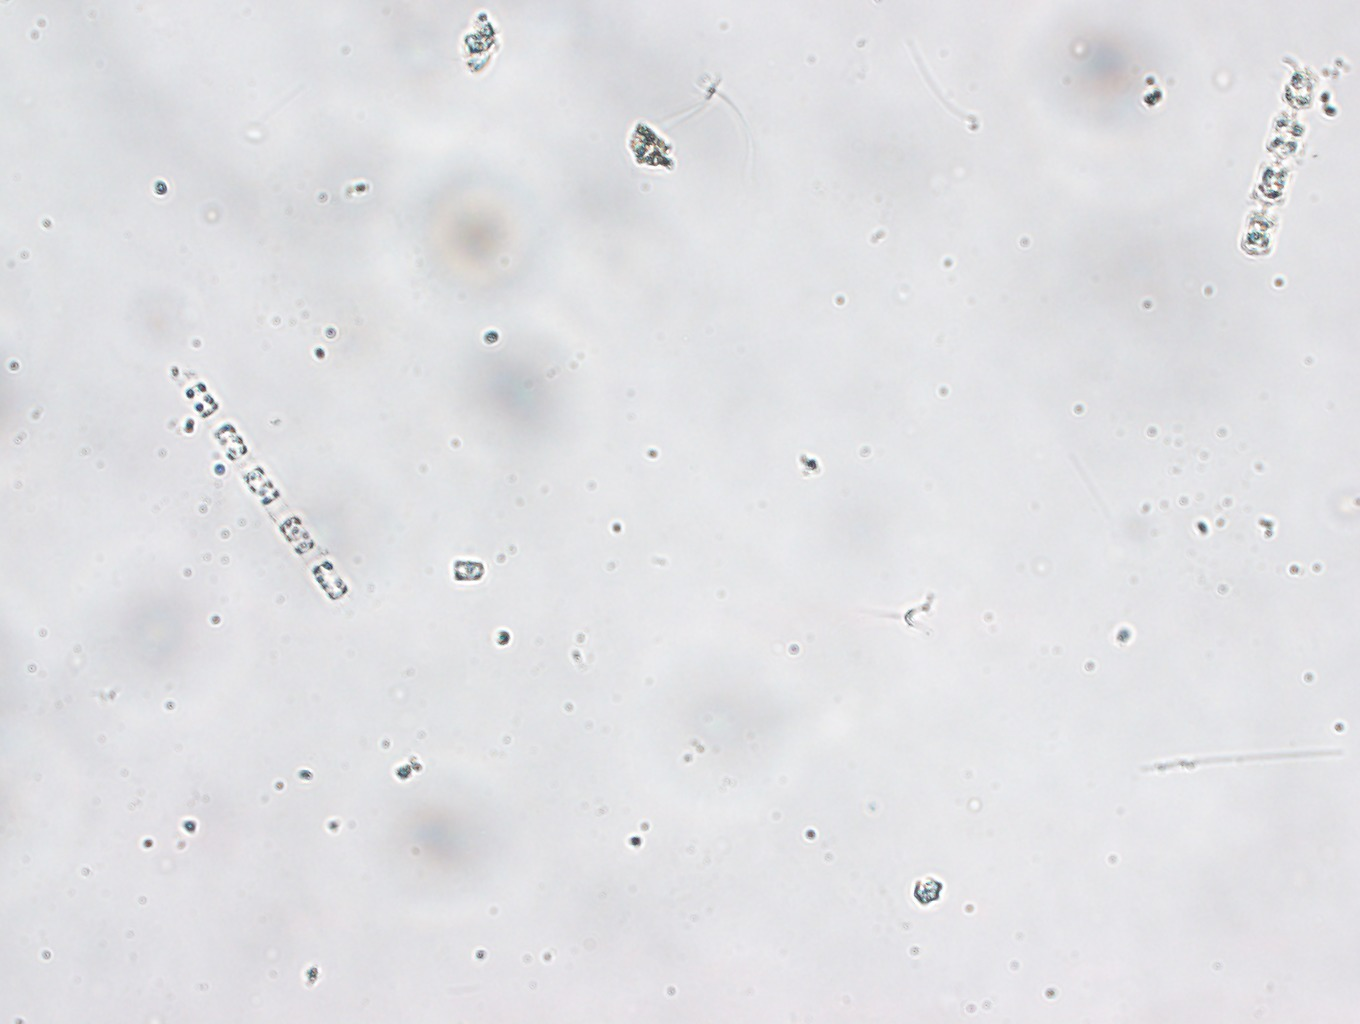chaetoceros: (1236, 57, 1318, 260)
skeletonema: (178, 370, 350, 602)
